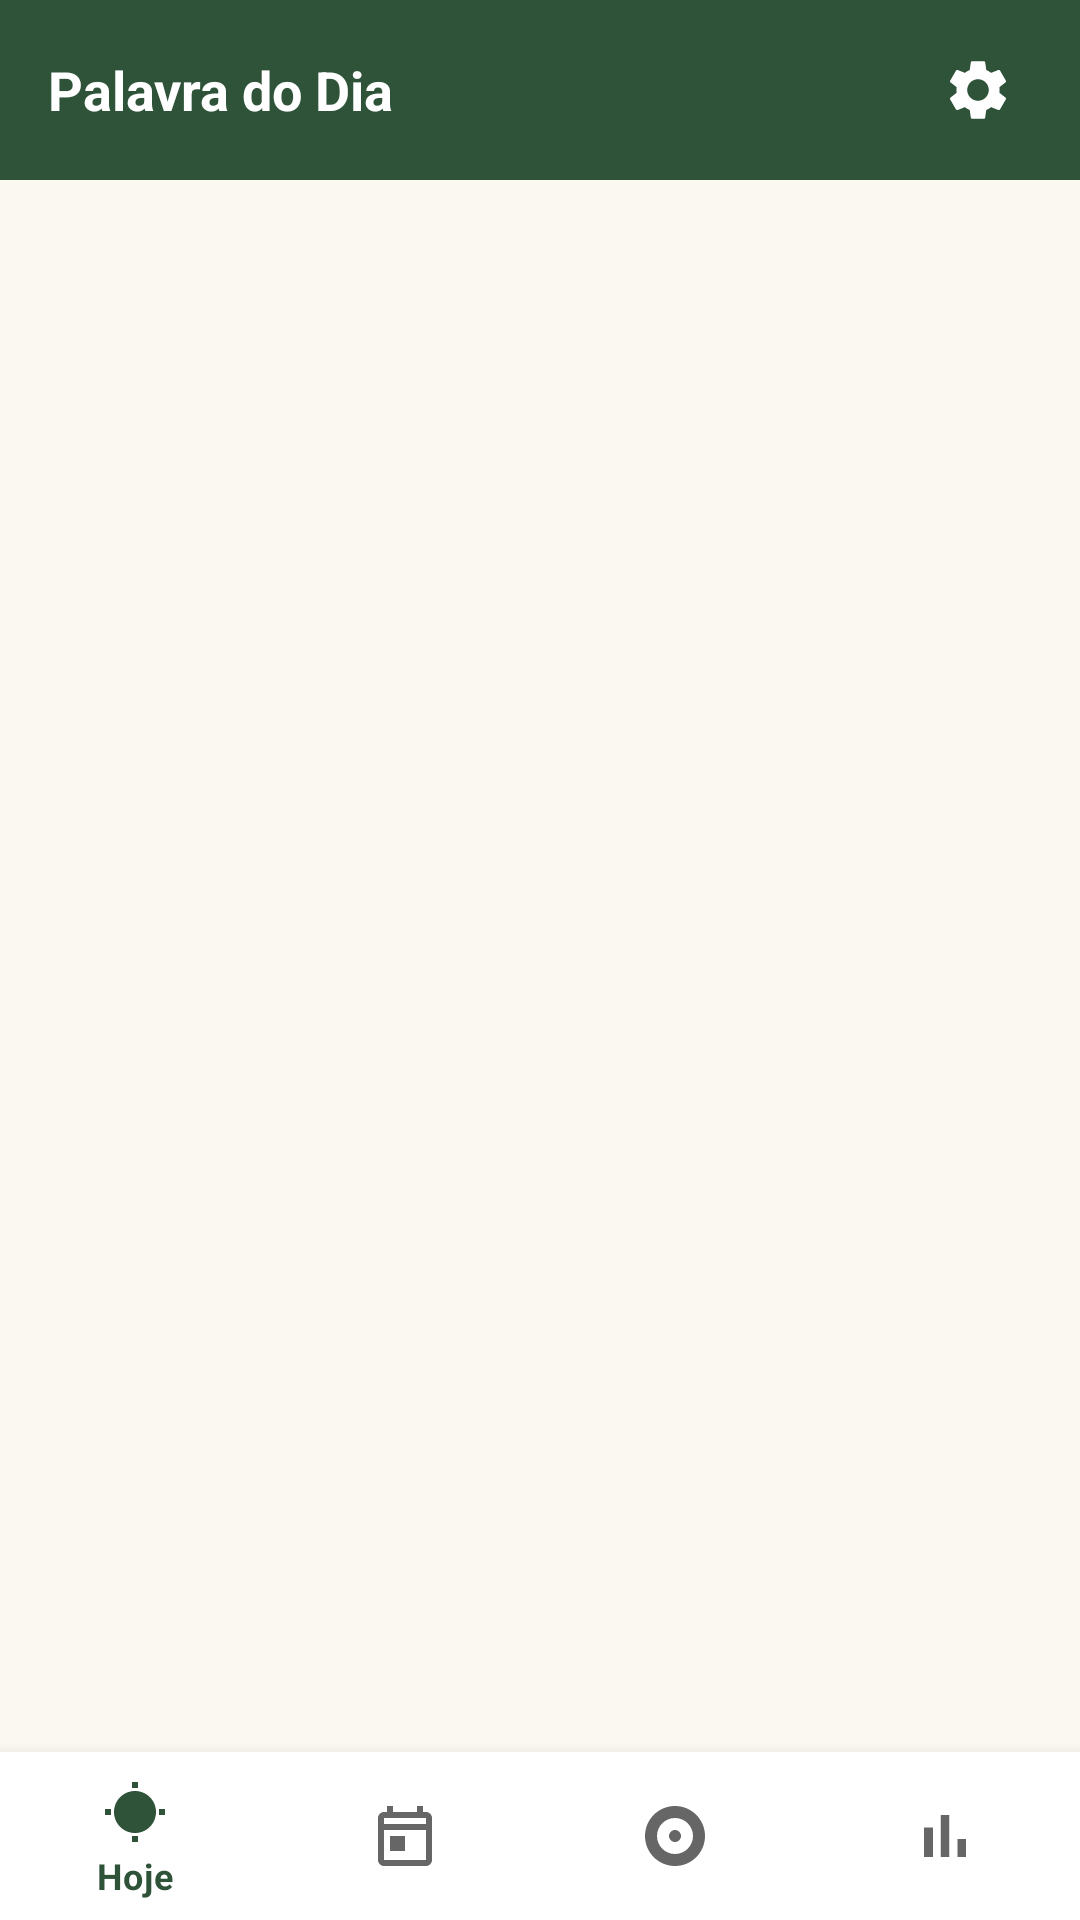

Locate icon controls on the screen. Image size 1080 x 1920, boxes as (x1, y1, x2, y2).
Configurações: (950, 61, 1006, 119)
